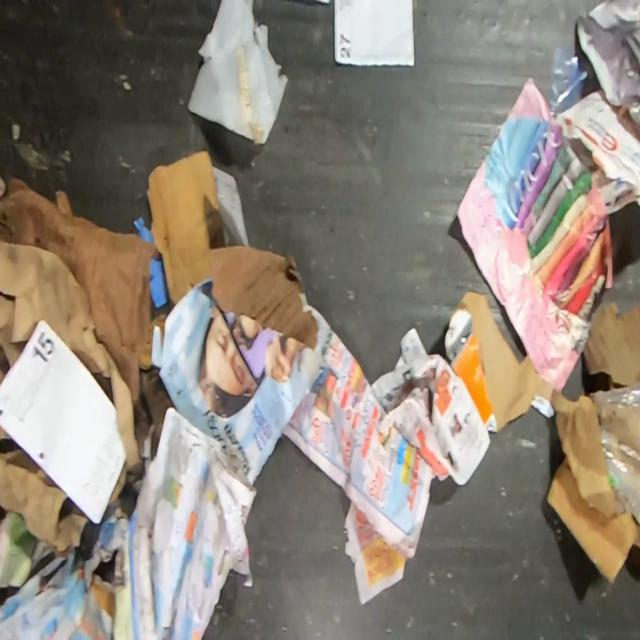cardboard: (0, 243, 142, 557), (0, 179, 164, 406), (546, 301, 639, 588), (443, 288, 556, 433), (143, 148, 228, 308), (208, 243, 329, 355)
soft_plastic: (546, 45, 590, 117)
